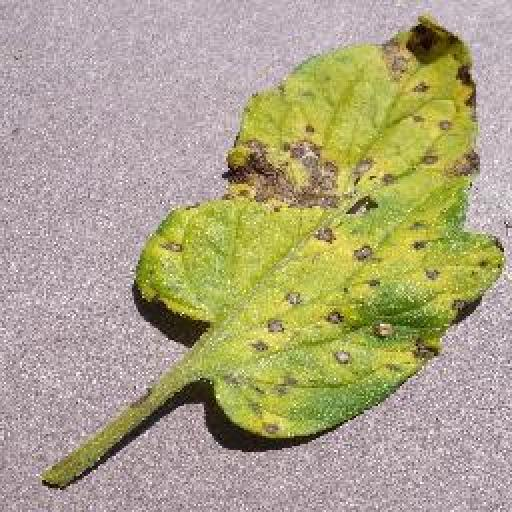Septoria: (132, 18, 506, 442)
